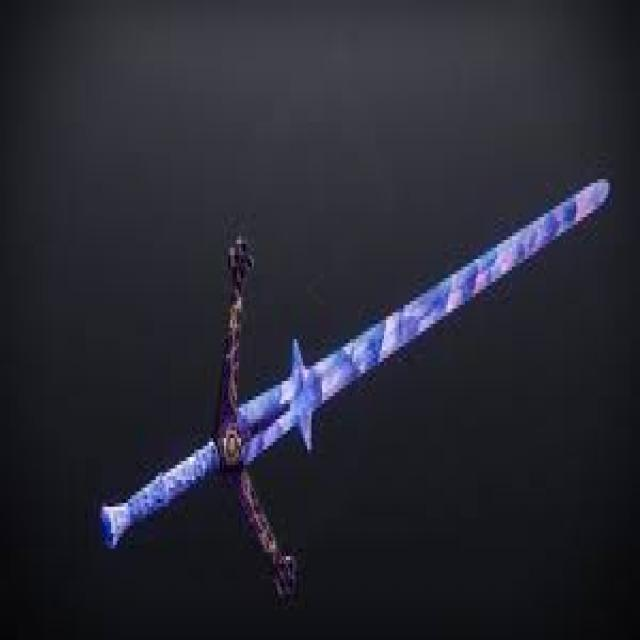sword: (100, 167, 618, 605)
